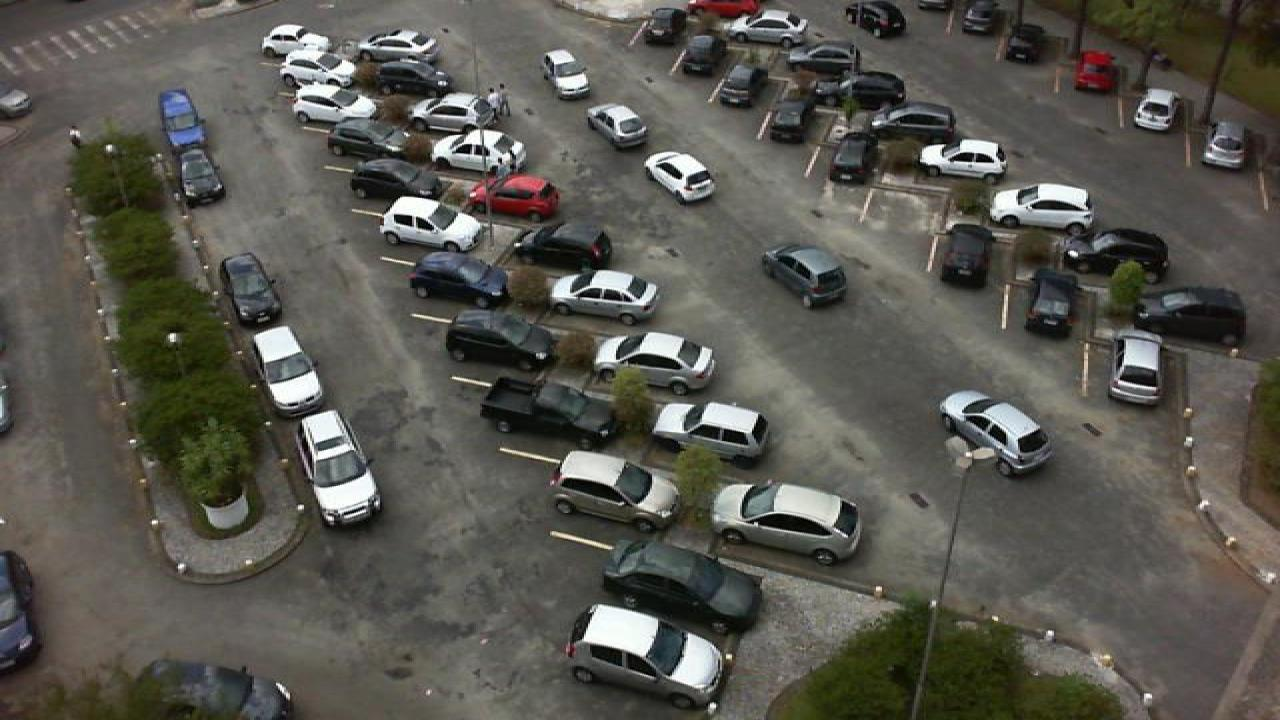Car: (564, 603, 730, 711), (600, 538, 762, 631), (706, 478, 866, 566), (548, 446, 682, 534), (478, 375, 622, 454), (126, 659, 304, 720), (936, 388, 1056, 478), (296, 407, 384, 528), (588, 327, 718, 397), (440, 304, 562, 369), (648, 398, 772, 461), (248, 322, 330, 417), (1134, 284, 1250, 348), (544, 266, 662, 328), (374, 194, 488, 255), (758, 241, 852, 309), (1060, 224, 1172, 281), (404, 247, 512, 305), (986, 181, 1098, 236), (512, 218, 618, 272), (0, 550, 44, 677), (428, 126, 530, 177), (216, 251, 284, 325), (462, 171, 564, 219), (344, 154, 442, 203), (410, 90, 510, 137), (640, 148, 720, 206), (1108, 329, 1168, 406), (320, 116, 412, 163), (288, 81, 382, 126), (932, 223, 996, 289), (1020, 270, 1080, 339), (914, 138, 1010, 179), (866, 101, 958, 143), (812, 68, 908, 108), (582, 100, 652, 151), (272, 50, 360, 90), (158, 88, 212, 153), (176, 145, 230, 208), (370, 59, 454, 99), (732, 8, 812, 47), (356, 27, 440, 62), (538, 47, 594, 99), (824, 133, 880, 183), (784, 39, 860, 75), (842, 0, 910, 40), (1200, 118, 1252, 170), (260, 22, 334, 57), (674, 30, 730, 76), (710, 63, 762, 109), (758, 98, 810, 144), (1130, 86, 1180, 132), (998, 20, 1050, 64), (1072, 48, 1122, 93), (638, 6, 690, 45), (956, 0, 1004, 36), (684, 0, 766, 19)
